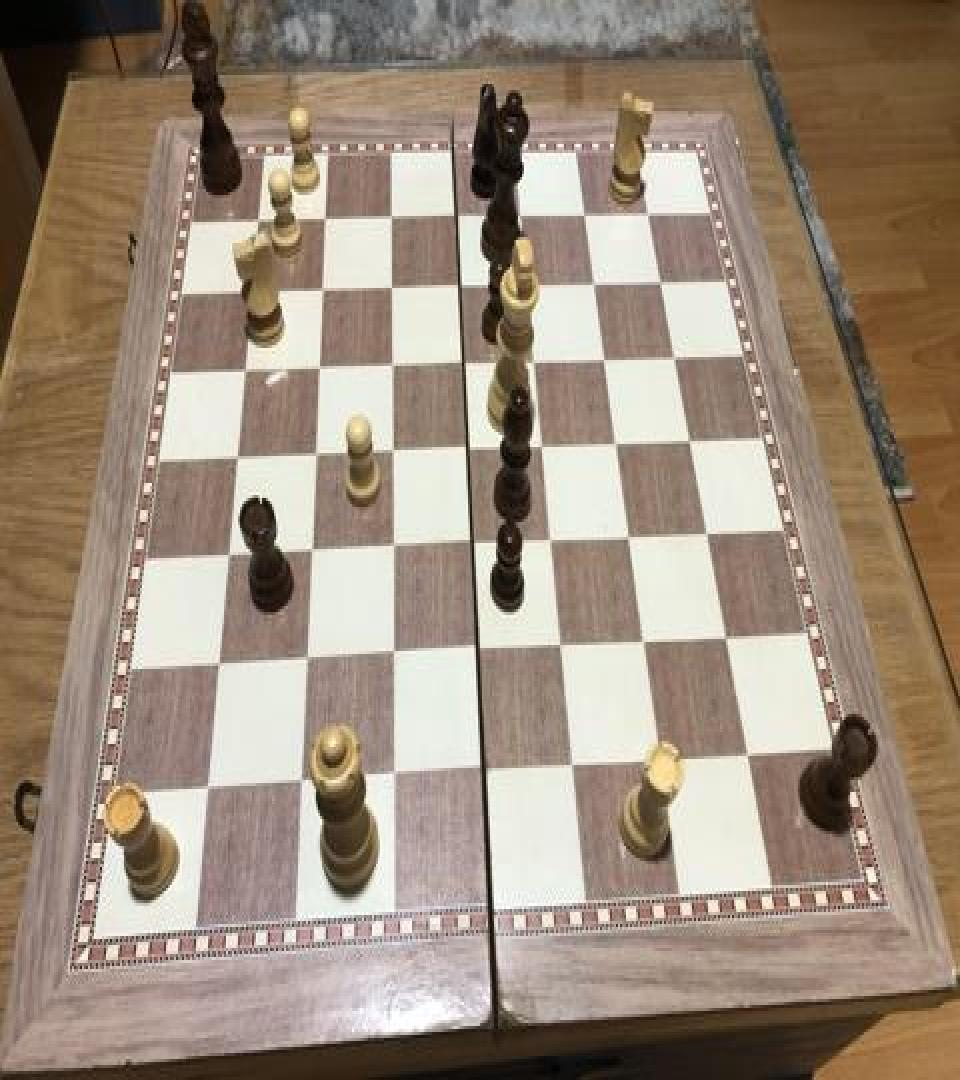xcorner: (618, 520, 642, 557), (632, 625, 656, 662), (380, 640, 404, 677), (637, 198, 661, 234), (574, 200, 598, 236), (510, 201, 534, 237), (446, 201, 470, 237), (380, 202, 404, 238), (314, 204, 338, 240), (649, 266, 673, 302), (583, 268, 607, 304), (516, 270, 540, 306), (449, 272, 473, 308), (380, 273, 404, 309), (311, 274, 335, 310), (241, 276, 265, 312), (663, 342, 687, 378), (523, 346, 547, 382), (452, 348, 476, 384), (380, 351, 404, 387), (307, 352, 331, 388), (234, 356, 258, 392), (678, 424, 702, 460), (605, 428, 629, 464), (456, 434, 480, 470), (380, 436, 404, 472), (303, 440, 327, 476), (225, 442, 249, 478), (695, 518, 719, 554), (540, 525, 564, 561), (461, 528, 485, 564), (380, 532, 404, 568), (299, 537, 323, 573), (216, 540, 240, 576), (714, 621, 738, 657), (550, 630, 574, 666), (466, 636, 490, 672), (294, 645, 318, 681), (206, 651, 230, 687), (735, 738, 759, 774), (649, 744, 673, 780), (561, 750, 585, 786), (471, 756, 495, 792), (381, 762, 405, 798), (288, 768, 312, 804), (194, 776, 218, 812), (248, 206, 272, 241), (594, 344, 618, 379), (531, 431, 555, 466)
